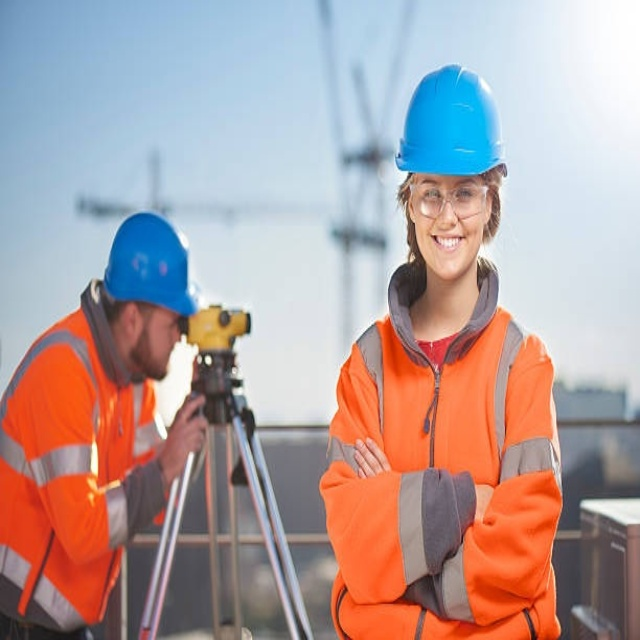Gafas: (408, 179, 490, 224)
Sin_gafas: (148, 315, 181, 336)
Sin_guantes: (158, 398, 208, 479), (353, 436, 391, 479)
Sin_mascara: (426, 226, 467, 265), (147, 344, 179, 378)
